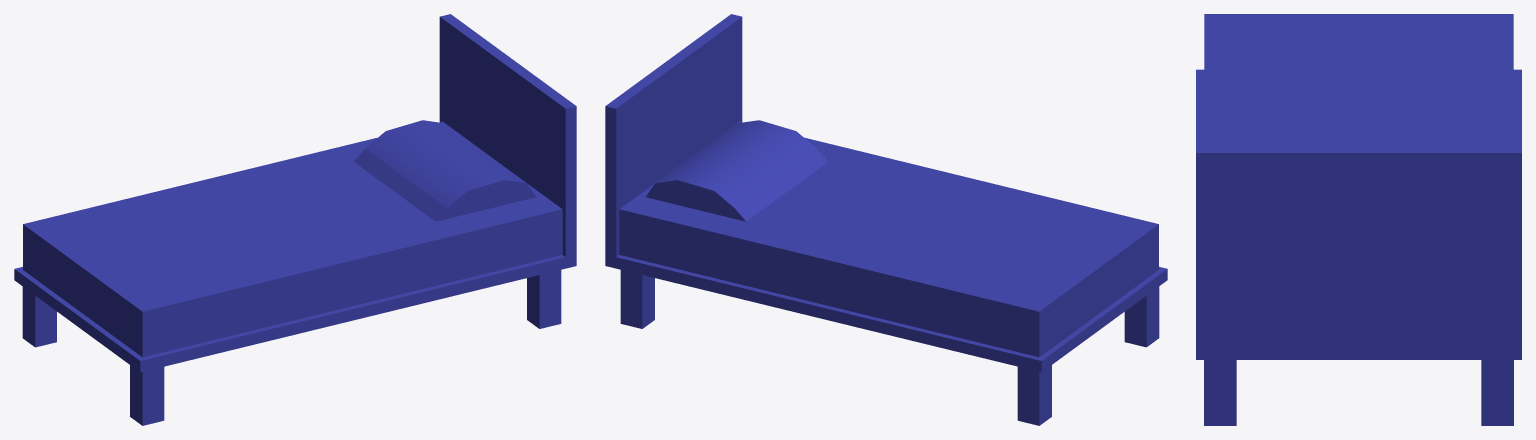
Rendered from bedAssy.FBX.
The picture shows the model from 3 angles, left to right: view 1: azimuth 30°, elevation 25°; view 2: azimuth 150°, elevation 25°; view 3: azimuth 270°, elevation 25°; orthographic projection. The views are drawn at different scales.
Visible parts, largest first — view 1: bed_matress, bed_frame; view 2: bed_matress, bed_frame; view 3: bed_frame, bed_matress.
Boxes of the visible parts, x1=… form: bed_matress: x1=23, y1=120, x2=562, y2=357; bed_frame: x1=14, y1=14, x2=576, y2=425; bed_matress: x1=619, y1=120, x2=1158, y2=357; bed_frame: x1=605, y1=14, x2=1167, y2=425; bed_frame: x1=1196, y1=69, x2=1521, y2=425; bed_matress: x1=1204, y1=14, x2=1513, y2=146.
Size of the model in its own units: 4 by 1.9 by 2.
